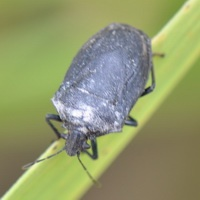insect: (24, 23, 154, 182)
